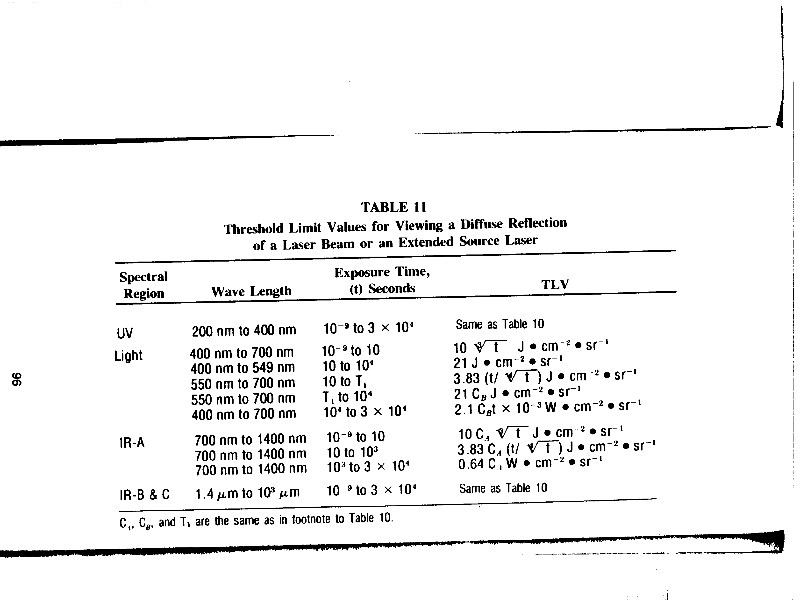table: (104, 251, 675, 537)
